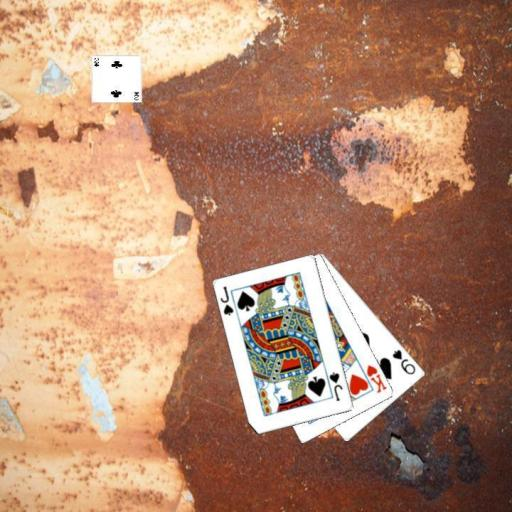card-corner: (390, 346, 417, 376), (364, 362, 388, 395), (326, 369, 344, 403), (218, 283, 236, 317)
